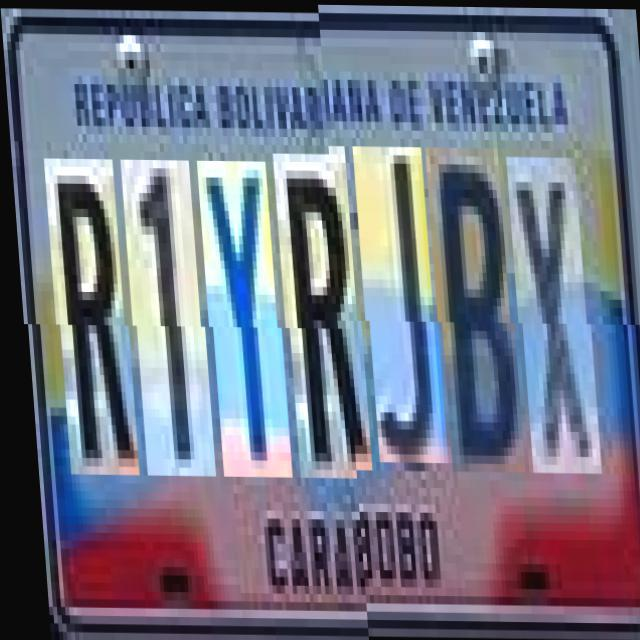1: (122, 159, 209, 476)
B: (428, 154, 518, 480)
J: (355, 154, 442, 470)
R: (274, 152, 366, 478), (46, 158, 132, 476)
X: (508, 164, 596, 481)
Y: (198, 160, 286, 477)
